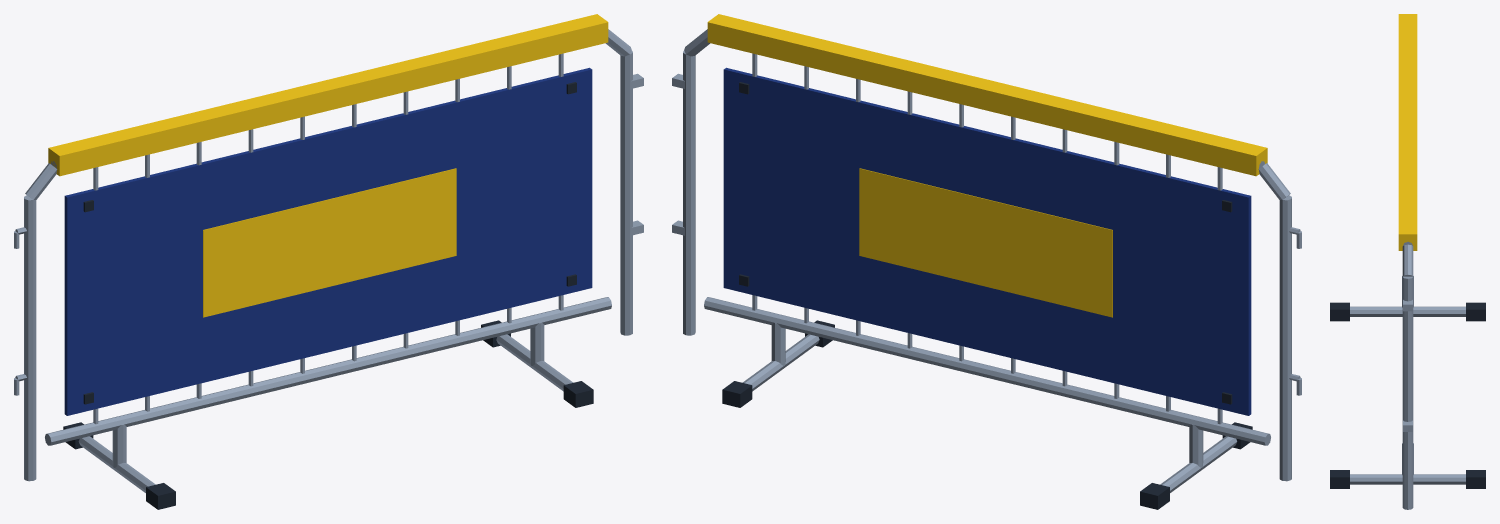
The model's file is barrier_finish.glb.
3 renders of one model, left to right at view 1: azimuth 30°, elevation 25°; view 2: azimuth 150°, elevation 25°; view 3: azimuth 270°, elevation 25°, orthographic. The views are drawn at different scales.
Visible parts, largest first — view 1: Barrier_Finish; view 2: Barrier_Finish; view 3: Barrier_Finish.
Boxes of the visible parts, x1,y1,x2,y2 form: Barrier_Finish: (14,14,643,509); Barrier_Finish: (672,14,1301,509); Barrier_Finish: (1330,14,1485,509).
Bounding box in the file's own units: 2.1 × 1.08 × 0.55.
